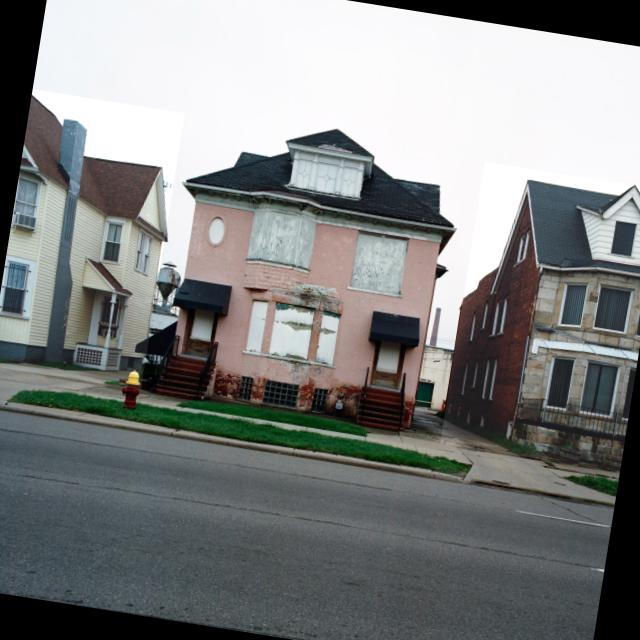House: (150, 107, 469, 435), (440, 162, 640, 472), (0, 89, 184, 390)
